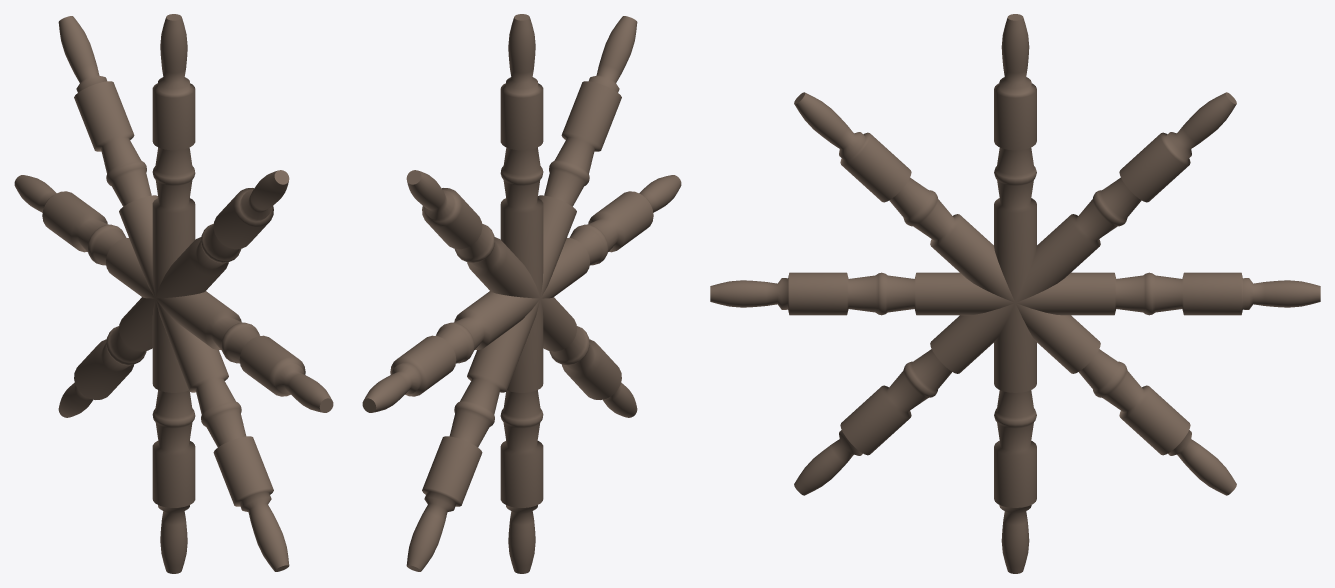
Rendered from SteeringWheelBars.fbx.
3 views of the same model, side by side, from view 1: azimuth 30°, elevation 25°; view 2: azimuth 150°, elevation 25°; view 3: azimuth 270°, elevation 25° (orthographic).
Visible parts, largest first — view 1: pCylinder6, pCylinder5, pCylinder7, pCylinder8; view 2: pCylinder8, pCylinder5, pCylinder7, pCylinder6; view 3: pCylinder7, pCylinder6, pCylinder8, pCylinder5.
Boxes of the visible parts, x1,y1,x2,y2 form: pCylinder6: (58,16,289,571); pCylinder5: (152,14,195,573); pCylinder7: (14,175,333,412); pCylinder8: (58,170,289,417); pCylinder8: (406,16,637,571); pCylinder5: (500,14,543,573); pCylinder7: (362,175,681,412); pCylinder6: (406,170,637,417); pCylinder7: (710,272,1320,315); pCylinder6: (794,92,1236,495); pCylinder8: (794,92,1236,495); pCylinder5: (994,14,1036,573).
Bounding box in the file's own units: 4.33 × 61.59 × 61.59.
